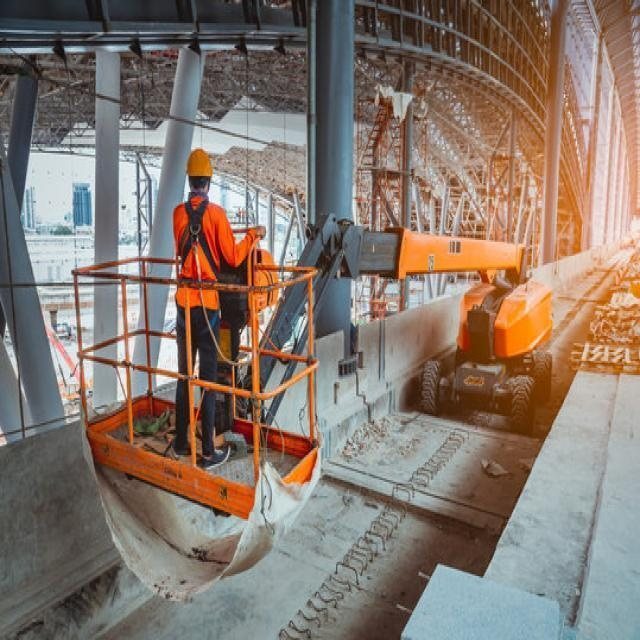Arnes_seguridad: (177, 198, 221, 340)
